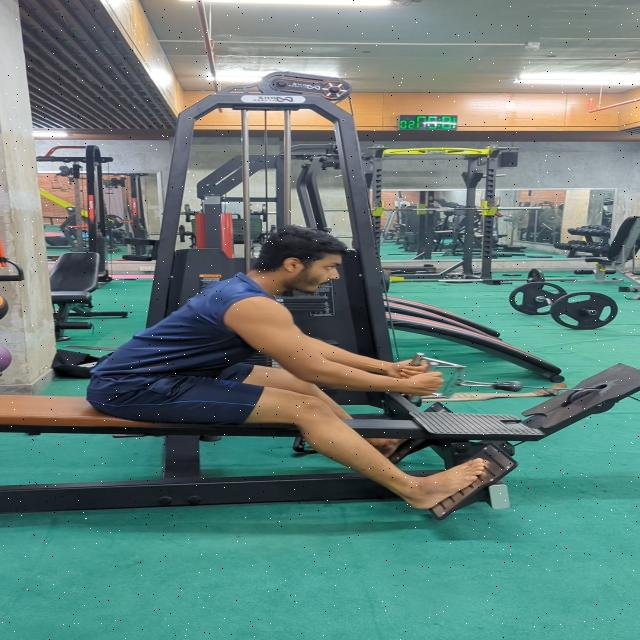Normal_RowingMachineExercise: (86, 223, 492, 511)
